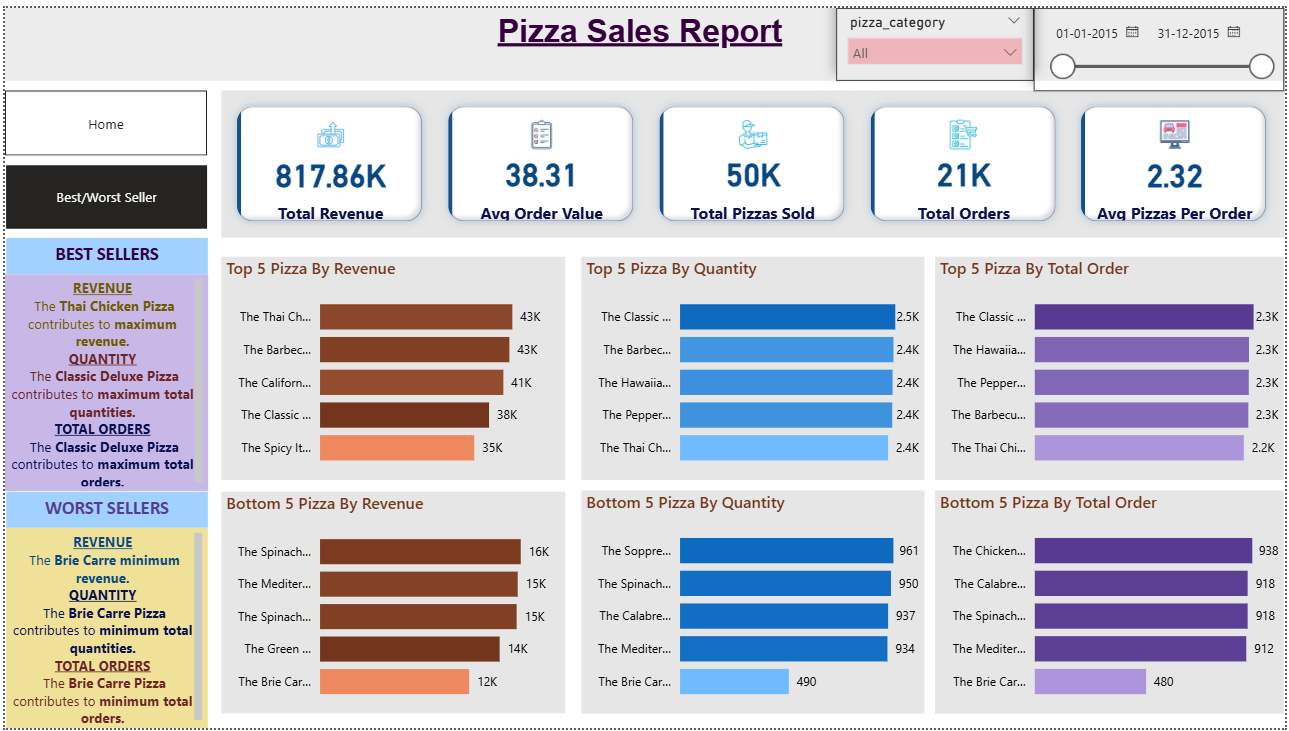

This screenshot's page, from the dashboard's own definition file:
{"tool":"powerbi","page":{"name":"Best/Worst Seller","canvas":[1280,720],"ordinal":1},"visuals":[{"type":"cardVisual","fields":{"Data":["pizza_sales.Total Revenue","pizza_sales.Avg Order Value","pizza_sales.Total Pizzas Sold","pizza_sales.Total Orders","pizza_sales.Avg Pizzas Per Order"]},"box":[215.7,82.9,1062.9,147.1],"z":0},{"type":"clusteredBarChart","title":"Top 5 Pizza By Revenue","fields":{"Category":["pizza_sales.pizza_name"],"Y":["pizza_sales.Total Revenue"]},"box":[215.7,248.6,344.3,222.9],"z":1000},{"type":"textbox","box":[0,0,1278.8,72.5],"z":2000},{"type":"textbox","box":[1.4,230,201.4,35.7],"z":3000},{"type":"textbox","box":[0,265.7,202.9,217.1],"z":4000},{"type":"textbox","box":[1.2,520,201.2,200],"z":5000},{"type":"textbox","box":[1.4,484.3,201.4,35.7],"z":6000},{"type":"slicer","fields":{"Values":["pizza_sales.pizza_category"]},"box":[831.2,0,197.5,72.5],"z":7000},{"type":"slicer","fields":{"Values":["pizza_sales.order_date"]},"box":[1028.6,0,250,82.9],"z":8000},{"type":"clusteredBarChart","title":"Bottom 5 Pizza By Revenue","fields":{"Category":["pizza_sales.pizza_name"],"Y":["pizza_sales.Total Revenue"]},"box":[215.7,484.3,344.3,221.4],"z":9000},{"type":"clusteredBarChart","title":"Top 5 Pizza By Total Order","fields":{"Category":["pizza_sales.pizza_name"],"Y":["pizza_sales.Total Orders"]},"box":[930,248.6,348.6,222.9],"z":10000},{"type":"clusteredBarChart","title":"Top 5 Pizza By Quantity","fields":{"Category":["pizza_sales.pizza_name"],"Y":["pizza_sales.Total Pizzas Sold"]},"box":[575.7,248.6,342.9,222.9],"z":11000},{"type":"clusteredBarChart","title":"Bottom 5 Pizza By Quantity","fields":{"Category":["pizza_sales.pizza_name"],"Y":["pizza_sales.Total Pizzas Sold"]},"box":[575.7,482.9,342.9,222.9],"z":12000},{"type":"clusteredBarChart","title":"Bottom 5 Pizza By Total Order","fields":{"Category":["pizza_sales.pizza_name"],"Y":["pizza_sales.Total Orders"]},"box":[930,482.9,348.6,222.9],"z":13000},{"type":"pageNavigator","box":[1.2,157.5,201.2,63.8],"z":14000},{"type":"pageNavigator","box":[0,82.5,202.5,65],"z":15000}]}

Visuals, with their boxes in screenshot pixels (x1, y1, x2, y2), scaled from the page's 1280x720 canvas onto the 1289x731 screenshot:
cardVisual - pizza_sales.Total Revenue x pizza_sales.Avg Order Value: [left=217, top=84, right=1288, bottom=234]
"Top 5 Pizza By Revenue" clusteredBarChart: [left=217, top=252, right=564, bottom=479]
textbox: [left=0, top=0, right=1288, bottom=74]
textbox: [left=1, top=234, right=204, bottom=270]
textbox: [left=0, top=270, right=204, bottom=490]
textbox: [left=1, top=528, right=204, bottom=730]
textbox: [left=1, top=492, right=204, bottom=528]
slicer - pizza_sales.pizza_category: [left=837, top=0, right=1036, bottom=74]
slicer - pizza_sales.order_date: [left=1036, top=0, right=1288, bottom=84]
"Bottom 5 Pizza By Revenue" clusteredBarChart: [left=217, top=492, right=564, bottom=716]
"Top 5 Pizza By Total Order" clusteredBarChart: [left=937, top=252, right=1288, bottom=479]
"Top 5 Pizza By Quantity" clusteredBarChart: [left=580, top=252, right=925, bottom=479]
"Bottom 5 Pizza By Quantity" clusteredBarChart: [left=580, top=490, right=925, bottom=717]
"Bottom 5 Pizza By Total Order" clusteredBarChart: [left=937, top=490, right=1288, bottom=717]
pageNavigator: [left=1, top=160, right=204, bottom=225]
pageNavigator: [left=0, top=84, right=204, bottom=150]
